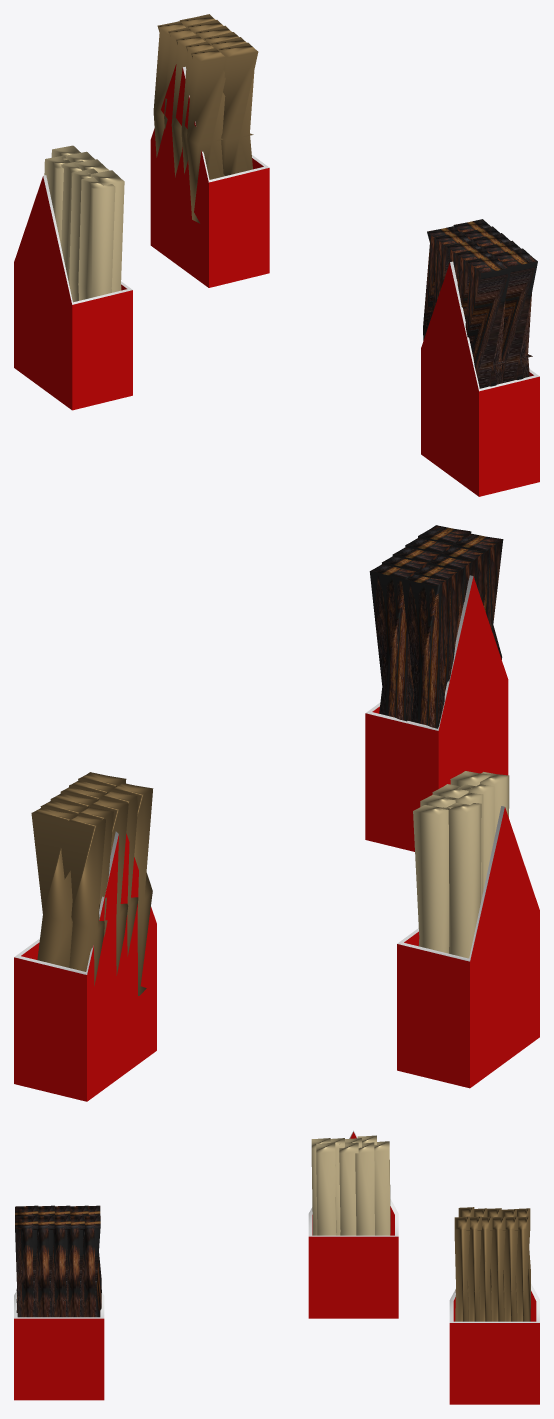
File: obj_papas_ala_francesa.fbx
3 renders of one model, top to bottom at view 1: azimuth 30°, elevation 25°; view 2: azimuth 150°, elevation 25°; view 3: azimuth 270°, elevation 25°, orthographic. The views are drawn at different scales.
Visible parts, largest first — view 1: pCube63, pCube64, pCube13, pCube44, pCube58, pCube52, pCube37, pCube57, pCube41, pCube51, pCube46, pCube42 (+7 smaller); view 2: pCube63, pCube13, pCube64, pCube62, pCube41, pCube33, pCube48, pCube39, pCube49, pCube44, pCube42, pCube58 (+7 smaller); view 3: pCube13, pCube63, pCube64, pCube57, pCube33, pCube46, pCube47, pCube56, pCube55, pCube54, pCube45, pCube48 (+8 smaller).
Boxes of the visible parts, bbox=[...] form: pCube63: bbox=[14, 175, 132, 410]; pCube64: bbox=[421, 261, 539, 496]; pCube13: bbox=[150, 64, 269, 287]; pCube44: bbox=[186, 48, 225, 223]; pCube58: bbox=[465, 255, 511, 388]; pCube52: bbox=[78, 177, 115, 300]; pCube37: bbox=[218, 42, 258, 175]; pCube57: bbox=[493, 248, 537, 382]; pCube41: bbox=[153, 21, 185, 157]; pCube51: bbox=[69, 168, 97, 302]; pCube46: bbox=[90, 170, 124, 292]; pCube42: bbox=[171, 35, 205, 177]; pCube63: bbox=[397, 806, 539, 1088]; pCube13: bbox=[14, 831, 156, 1101]; pCube64: bbox=[365, 575, 508, 851]; pCube62: bbox=[403, 574, 450, 728]; pCube41: bbox=[58, 816, 105, 985]; pCube33: bbox=[369, 564, 421, 721]; pCube48: bbox=[413, 805, 453, 953]; pCube39: bbox=[31, 808, 78, 967]; pCube49: bbox=[441, 803, 481, 958]; pCube44: bbox=[111, 783, 153, 995]; pCube42: bbox=[89, 799, 128, 975]; pCube58: bbox=[453, 533, 503, 659]; pCube13: bbox=[449, 1284, 539, 1404]; pCube63: bbox=[308, 1130, 398, 1318]; pCube64: bbox=[14, 1291, 104, 1400]; pCube57: bbox=[15, 1215, 38, 1317]; pCube33: bbox=[77, 1215, 101, 1317]; pCube46: bbox=[316, 1142, 336, 1235]; pCube47: bbox=[355, 1142, 374, 1235]; pCube56: bbox=[31, 1215, 54, 1317]; pCube55: bbox=[48, 1215, 70, 1317]; pCube54: bbox=[62, 1215, 84, 1317]; pCube45: bbox=[339, 1142, 358, 1235]; pCube48: bbox=[370, 1141, 390, 1235].
Bounding box in the file's own units: 33.57 × 24.92 × 68.42.
5 materials, 1 textured.
